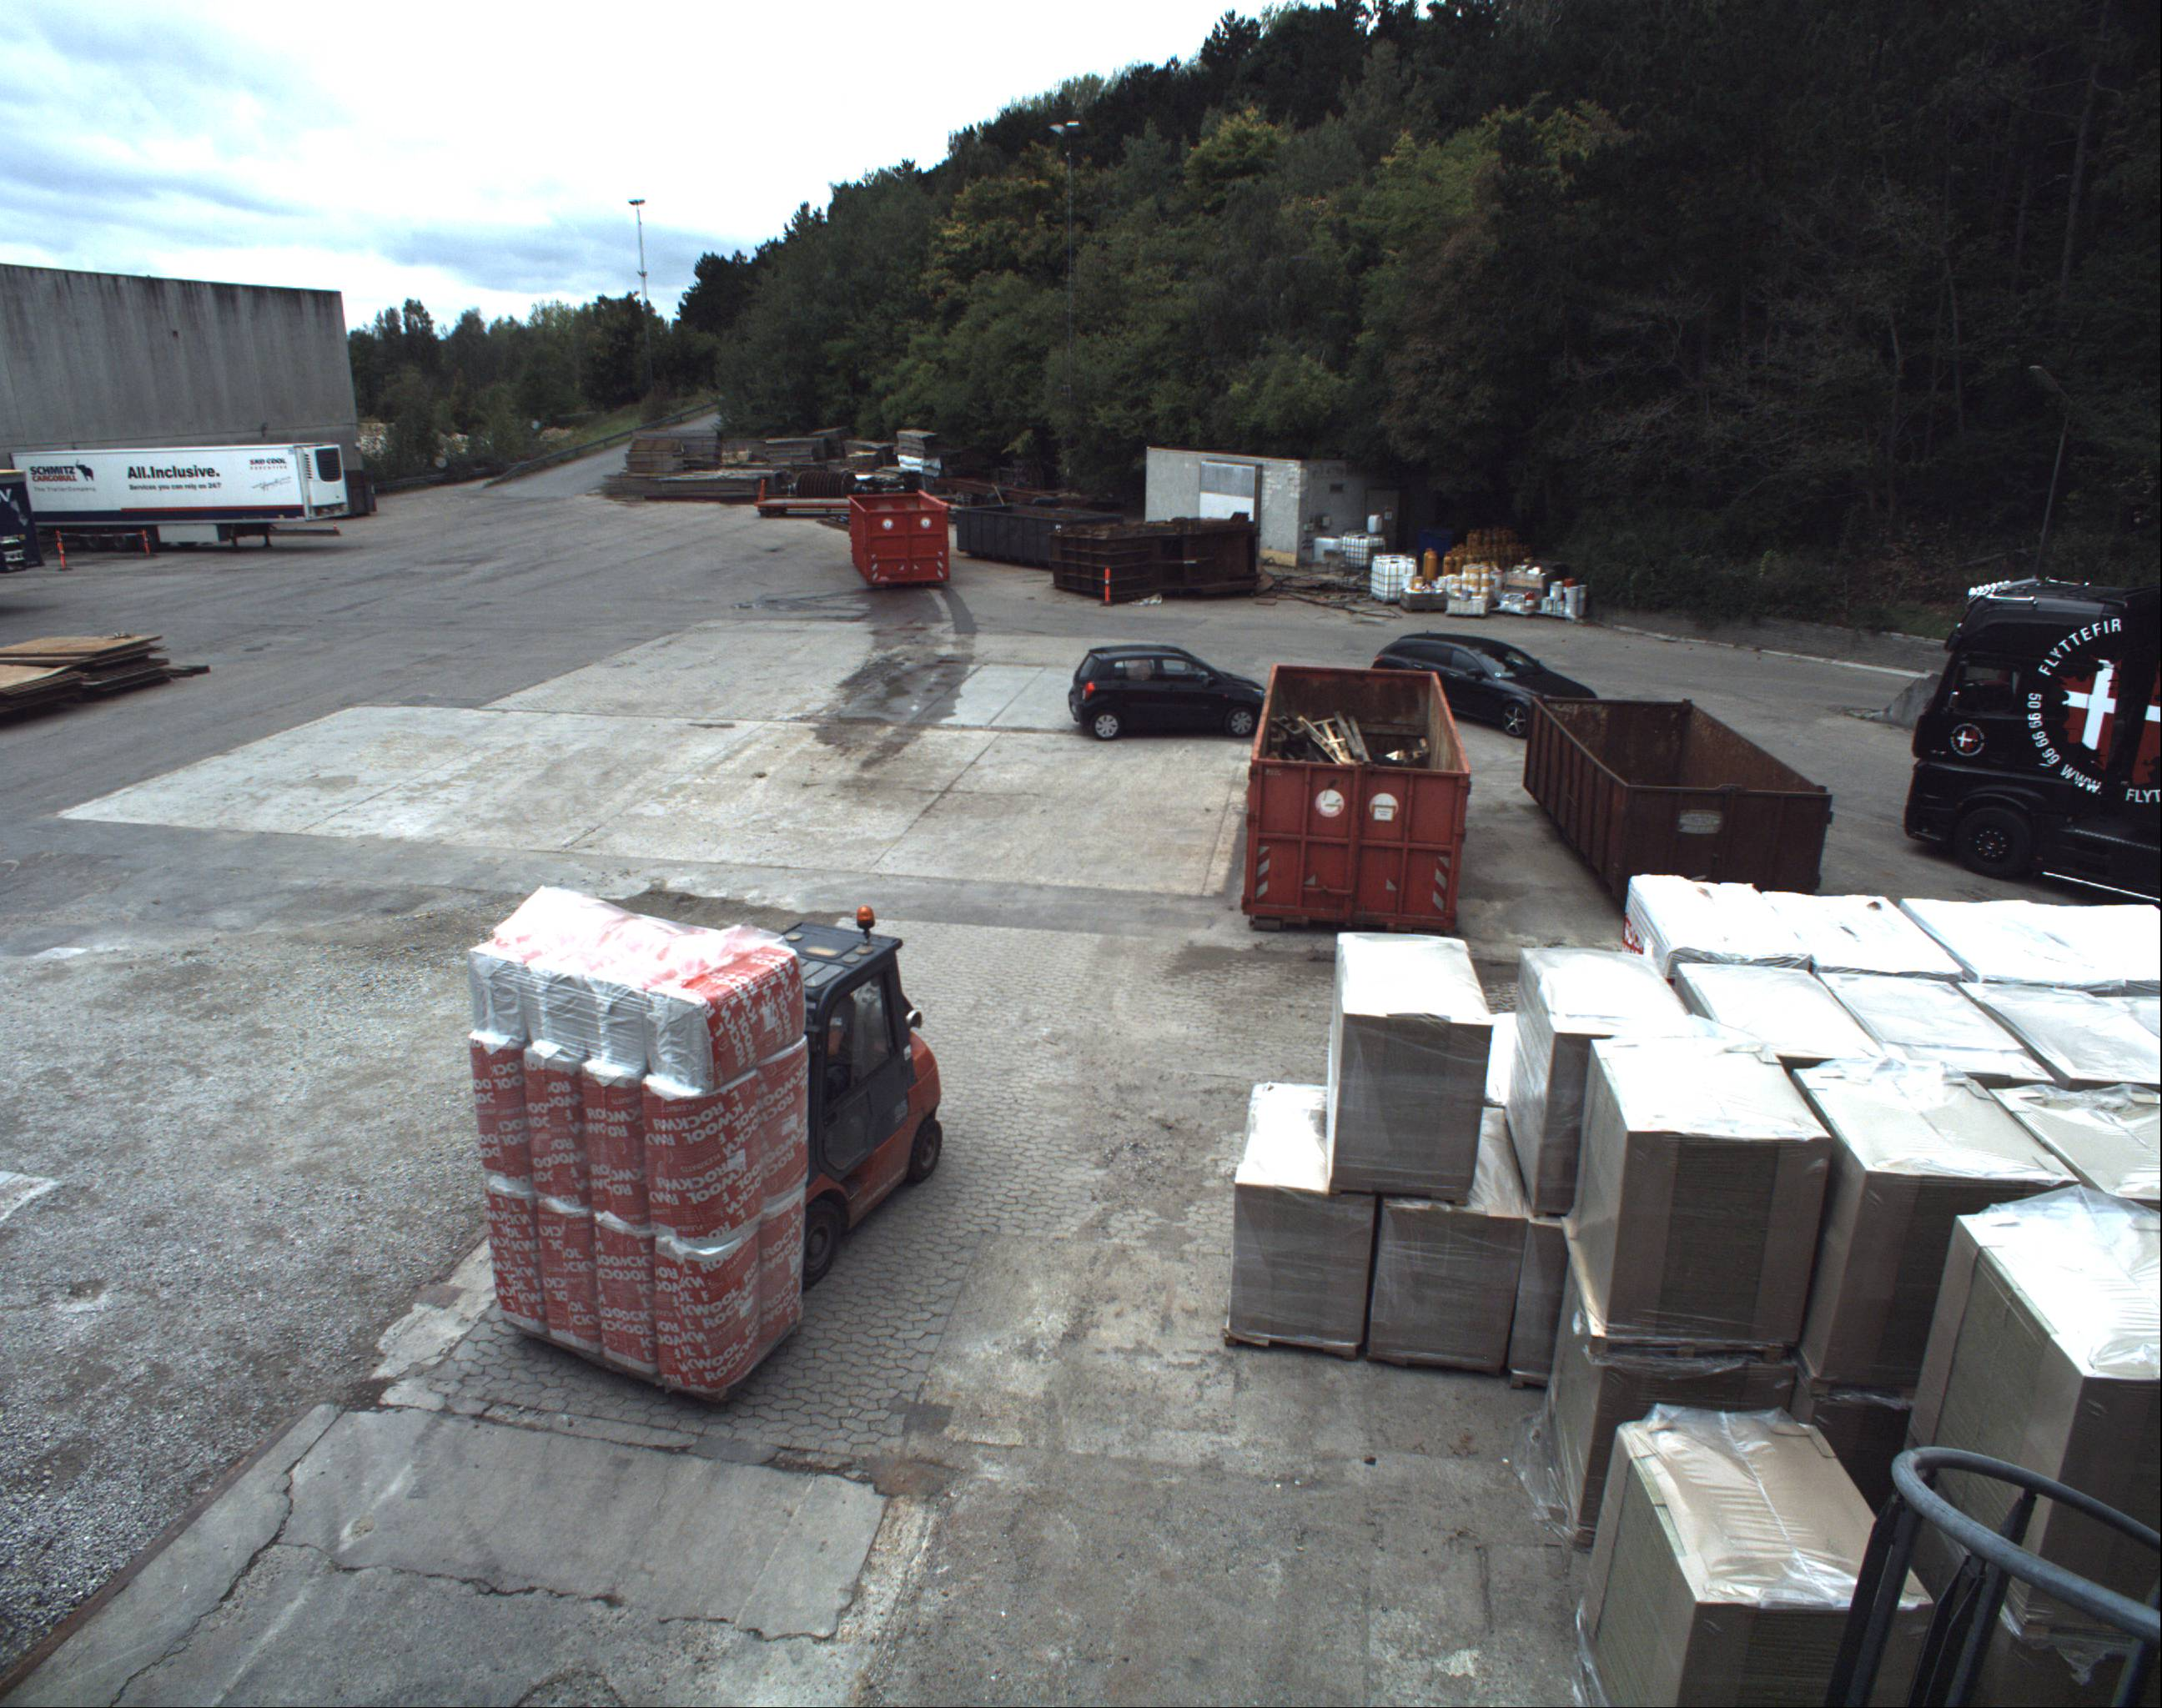rockwool_batts: (465, 883, 797, 1399)
